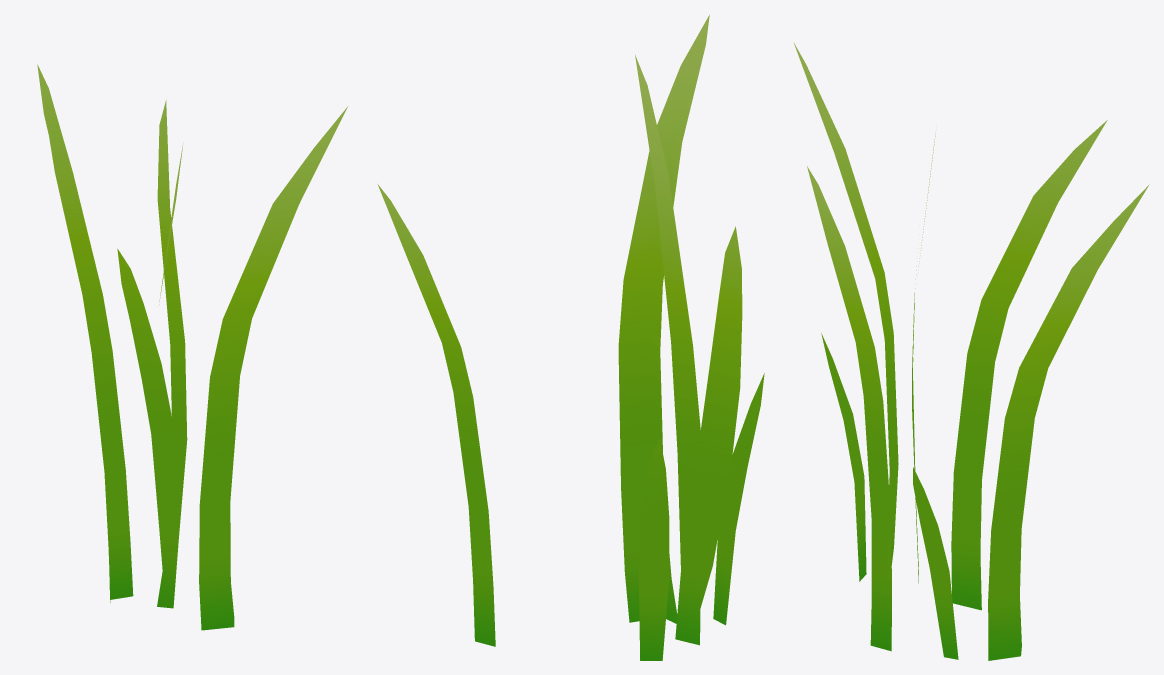
Rendered from Grass_Common_Short.glb.
3 views of the same model, side by side, from view 1: azimuth 30°, elevation 25°; view 2: azimuth 150°, elevation 25°; view 3: azimuth 270°, elevation 25° (orthographic). The views are drawn at different scales.
Parts seen in each view (by area): view 1: Grass_Common_Short; view 2: Grass_Common_Short; view 3: Grass_Common_Short.
Boxes of the visible parts, bbox=[...] form: Grass_Common_Short: bbox=[37, 64, 347, 630]; Grass_Common_Short: bbox=[377, 14, 764, 660]; Grass_Common_Short: bbox=[793, 42, 1149, 660].
Bounding box in the file's own units: 0.6389 × 1.33 × 0.7373.
1 material, 1 textured.
